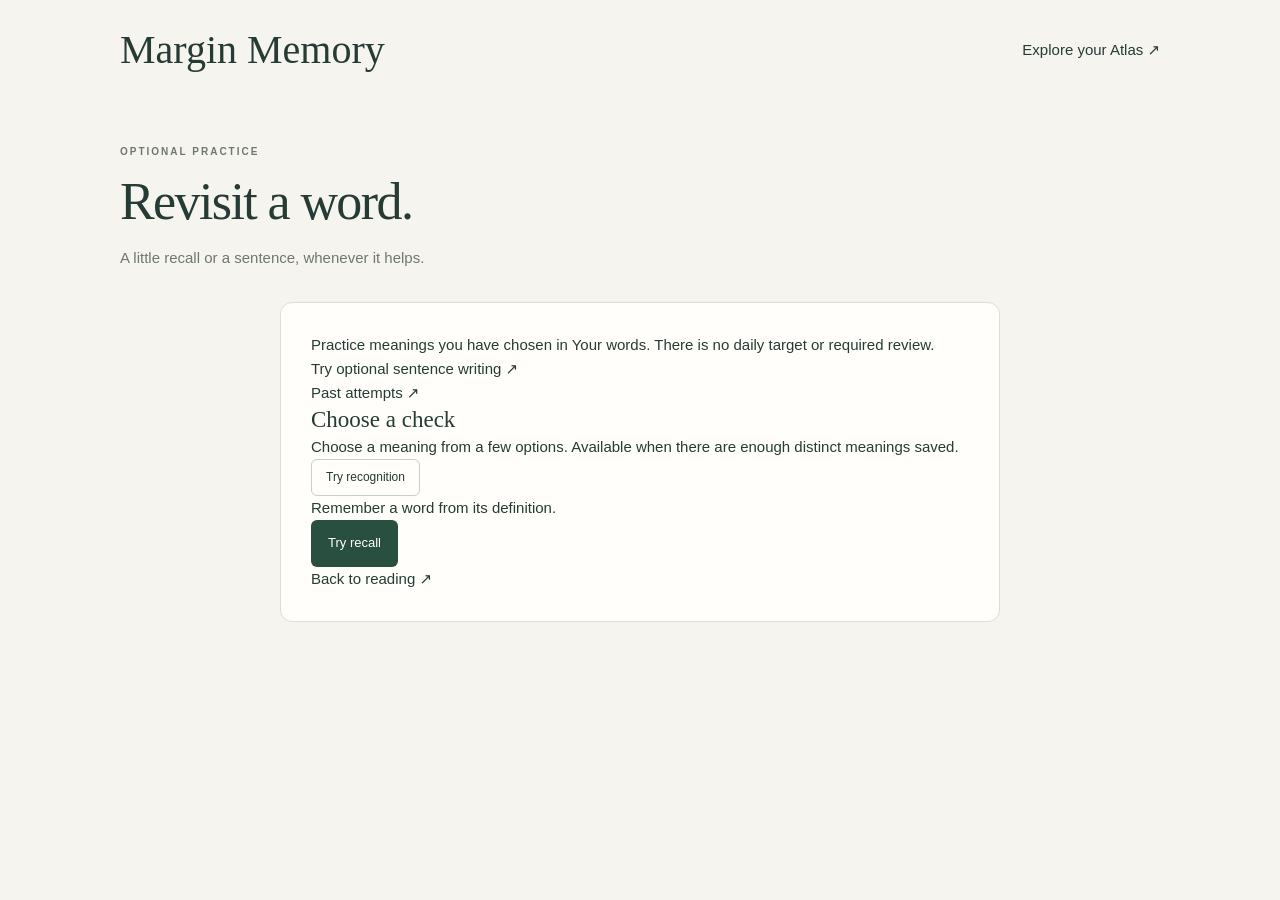
Test: keeps the word hidden until an answer is submitted and records assistance
Click the button "Try recall".
click(354, 543)  # box [311,520,398,567]
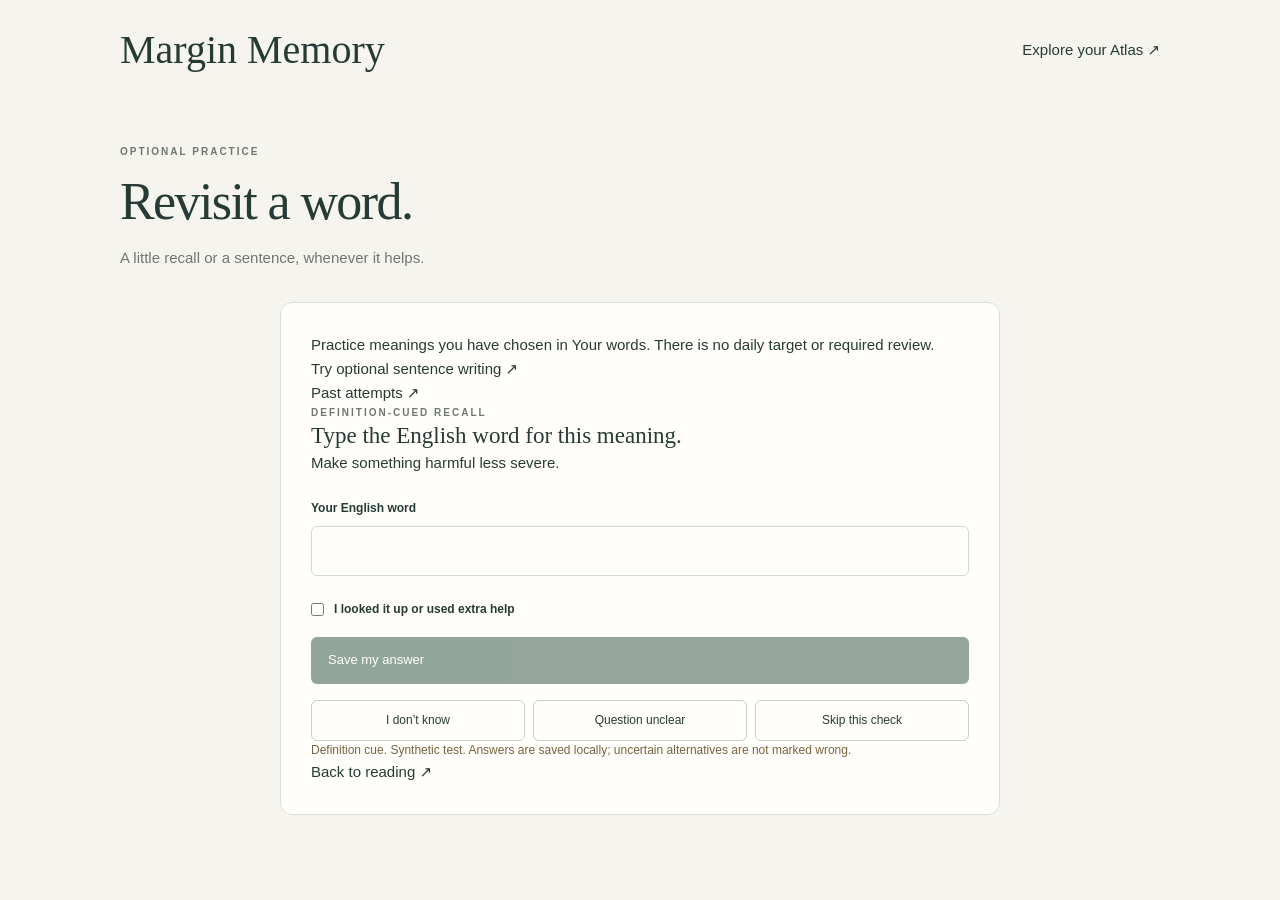
expect the text "mitigate" is not shown: met
expect the field labelled "Your English word" is shown: met
Type "mitigate" into the field labelled "Your English word".
click(640, 551); type("mitigate")  # box [311,526,969,576]
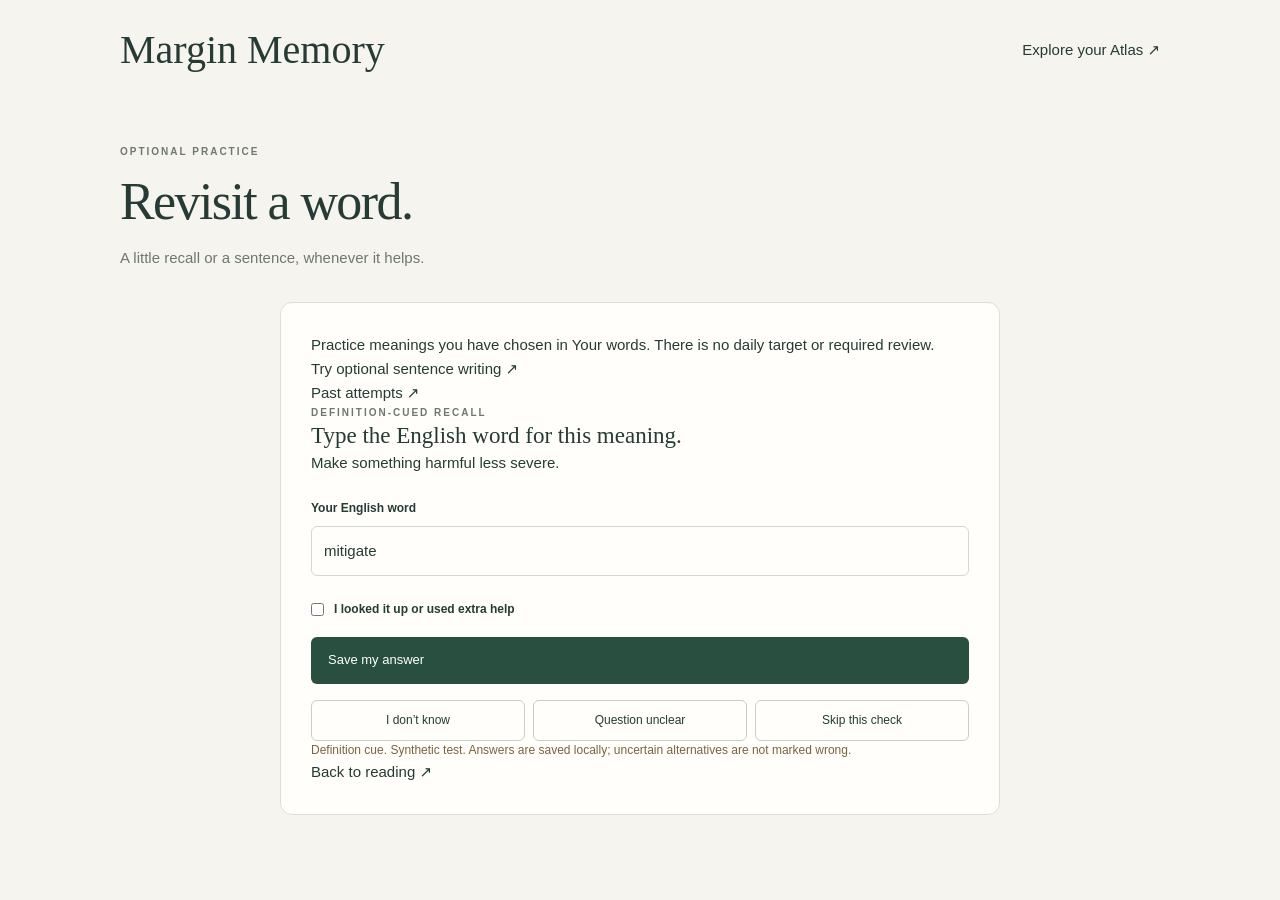
Click the checkbox labelled "I looked it up or used extra help".
click(318, 610)  # box [311,600,324,619]
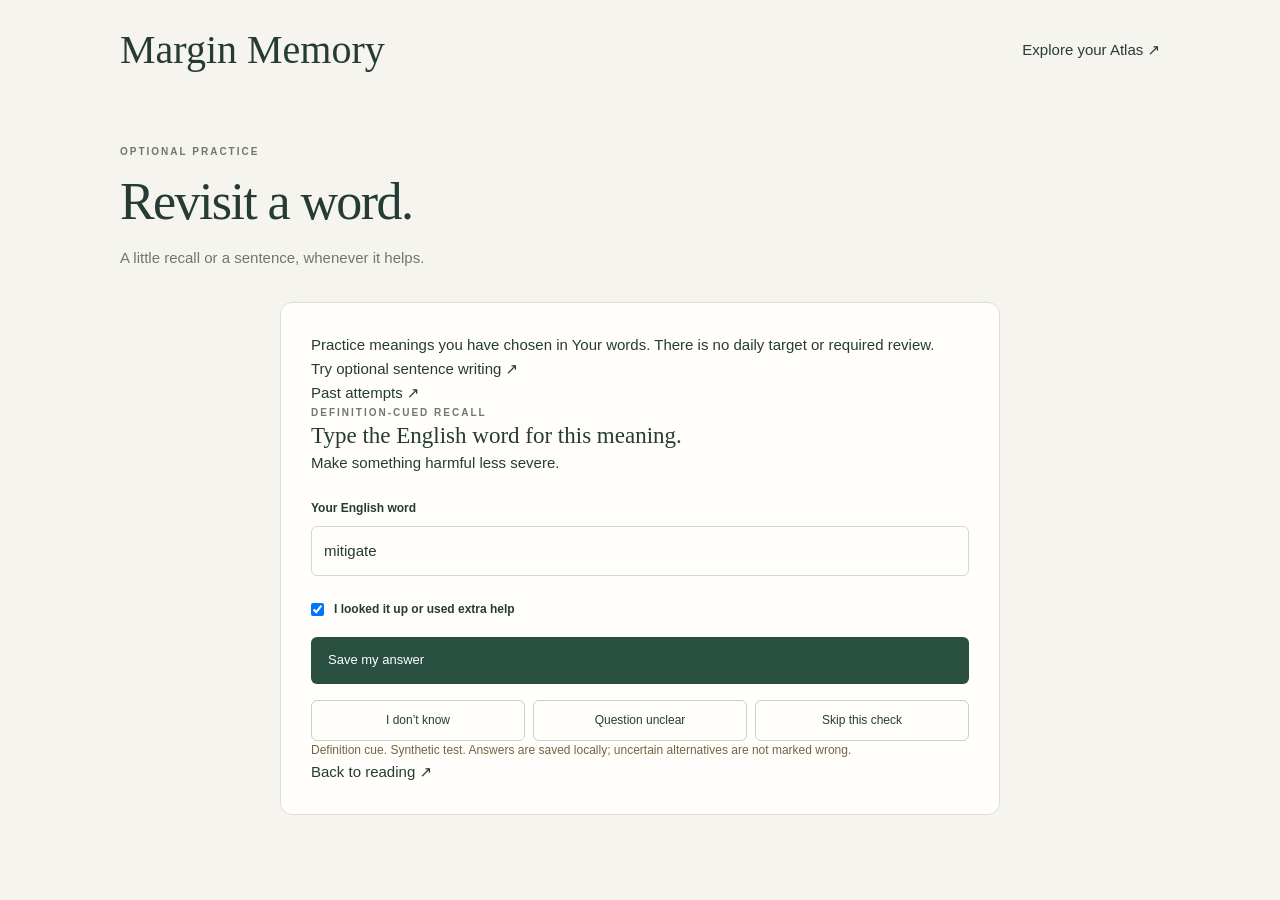
Click the button "Save my answer".
click(376, 660)  # box [311,637,969,684]
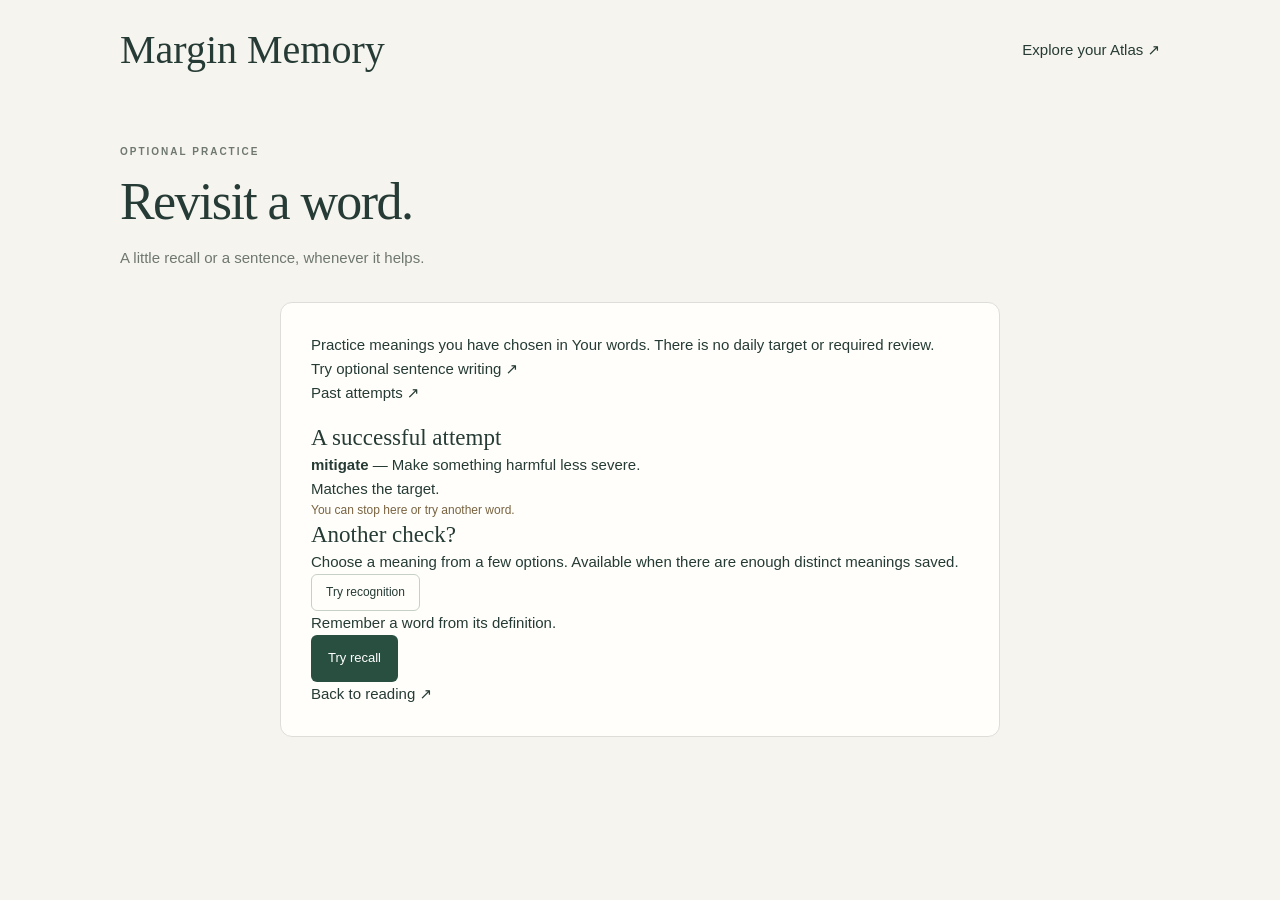
expect the heading "A successful attempt" is shown: met, box [311,425,501,450]
expect the text "mitigate" is shown: met, box [311,456,368,473]
